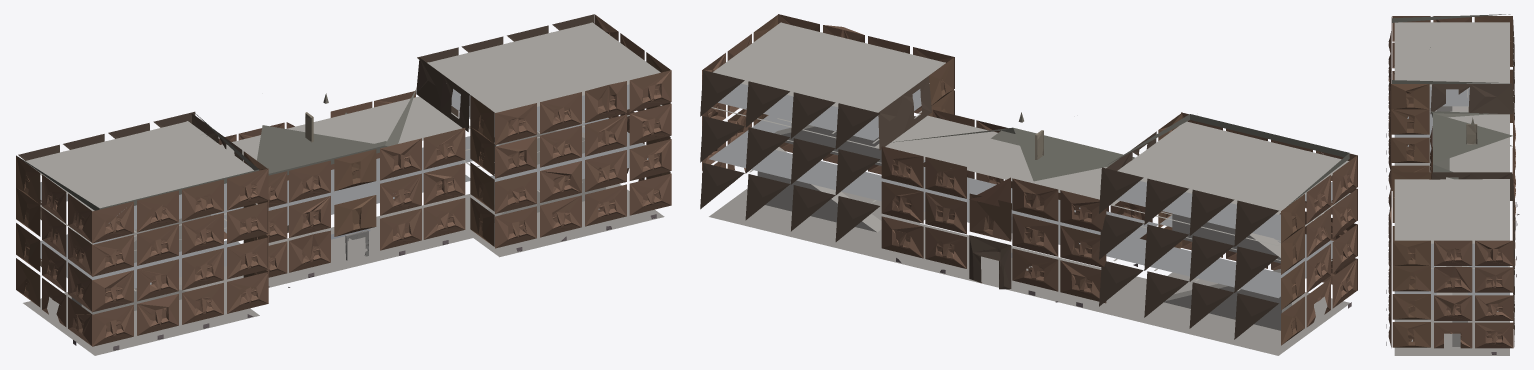
File: prison-block.zfix-v14.lod2.glb
3 views of the same model, side by side, from view 1: azimuth 30°, elevation 25°; view 2: azimuth 150°, elevation 25°; view 3: azimuth 270°, elevation 25° (orthographic). The views are drawn at different scales.
Visible parts, largest first — view 1: Jail_Build1_MAT_0; view 2: Jail_Build1_MAT_0; view 3: Jail_Build1_MAT_0.
Part boxes in pixels (x1,y1,x2,y2): Jail_Build1_MAT_0: (16,14,671,355); Jail_Build1_MAT_0: (700,14,1357,355); Jail_Build1_MAT_0: (1386,14,1519,355).
Size of the model in its own units: 51.78 by 14.98 by 12.77.
